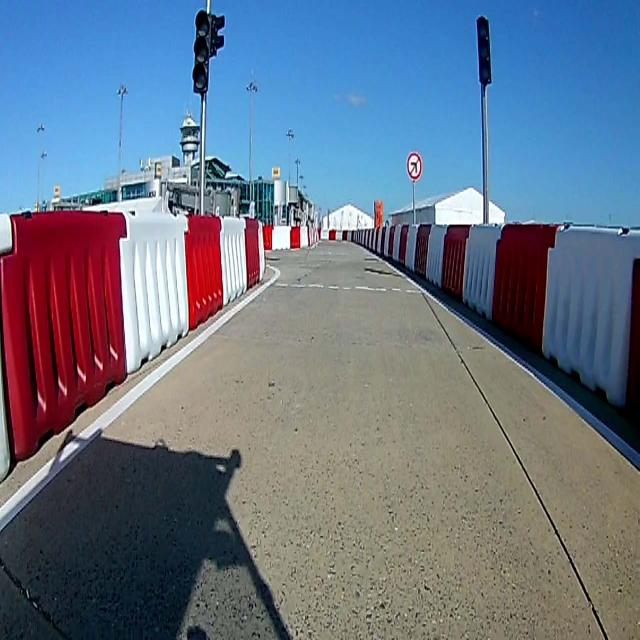soladonulmez: (406, 150, 422, 182)
